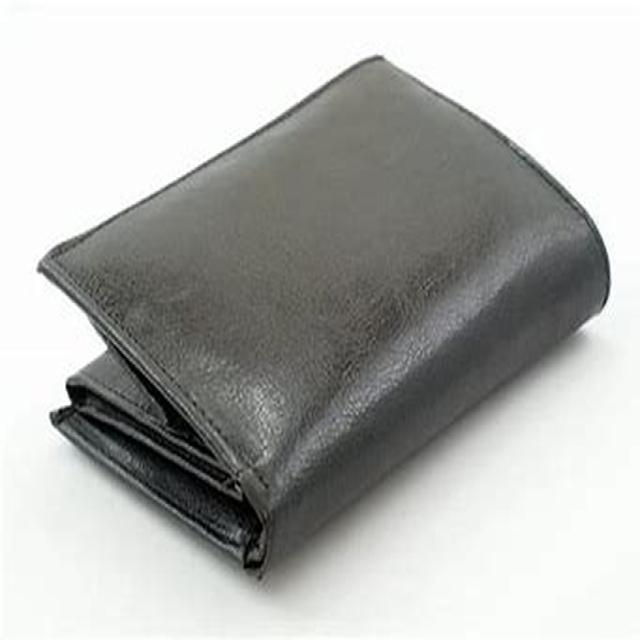mouse: (29, 24, 583, 588)
